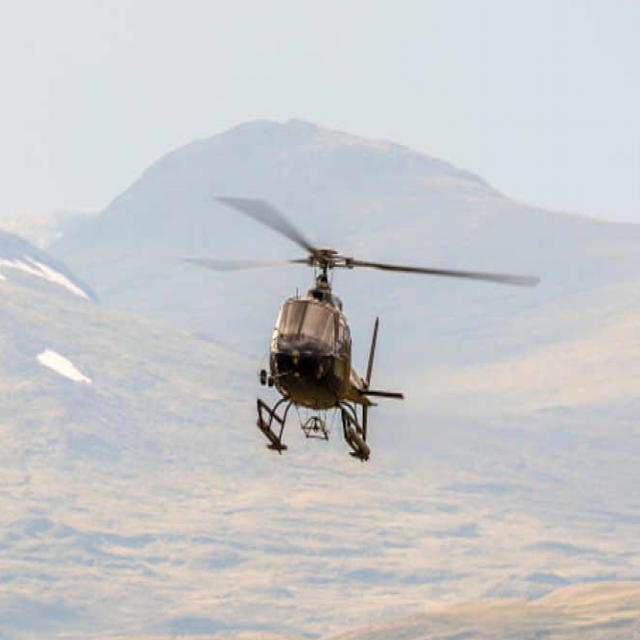helicopter: (186, 194, 549, 468)
